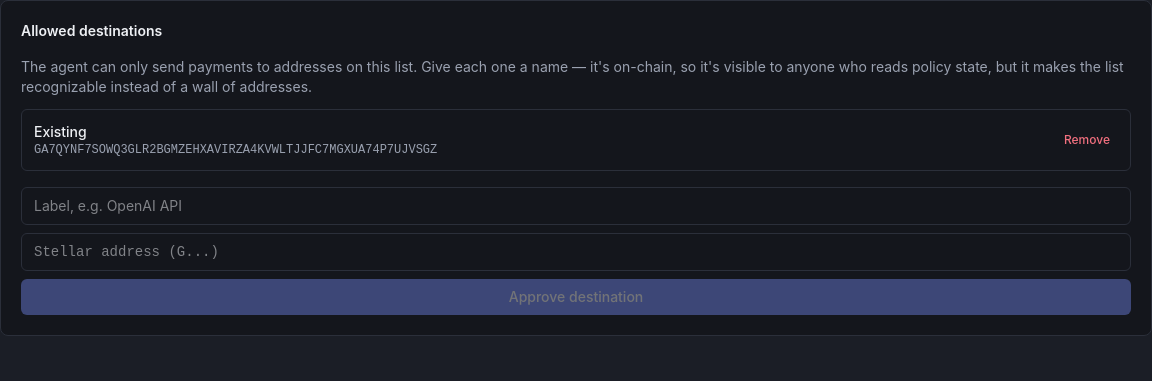
Test: AllowlistManager › warns instead of allowing a duplicate destination
Step 1. Type "Duplicate" into the field with placeholder "Label, e.g. OpenAI API" → (576, 206), box [21,187,1131,225]
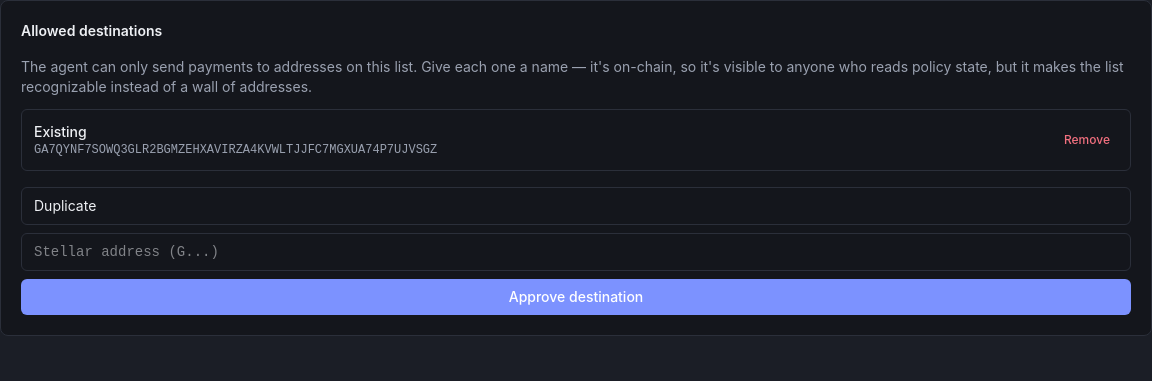
Step 2. Type "GA7QYNF7SOWQ3GLR2BGMZEHXAVIRZA4KVWLTJJFC7MGXUA74P7UJVSGZ" into the field with placeholder "Stellar address (G...)" → (576, 252), box [21,233,1131,271]
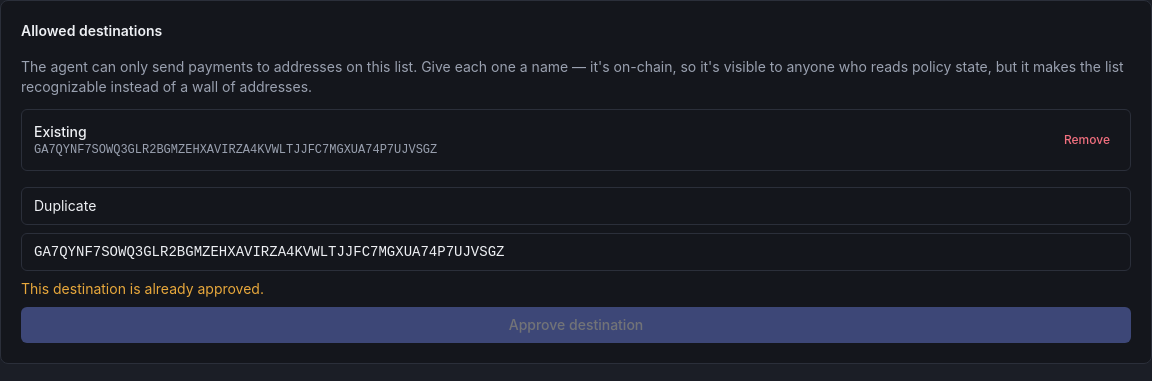
Now the text "This destination is already approved." is shown, box [21,280,264,297]
Now the button "Approve destination" is disabled, box [21,307,1131,343]
